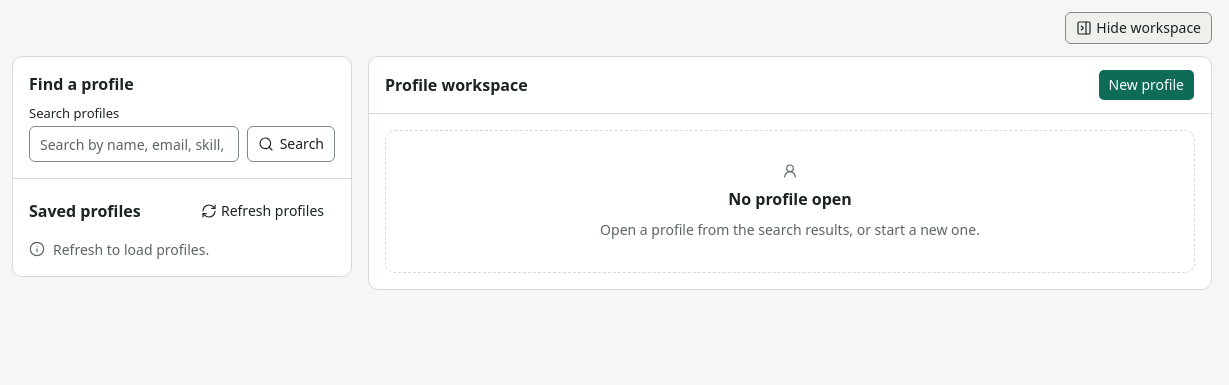
Test: profile list › loads page one on refresh and appends the next page
The width and height of the screenshot is (1229, 385).
Click the button with test id "profileRefreshButton". click: (262, 211)
box: x1=190 y1=195 x2=335 y2=227
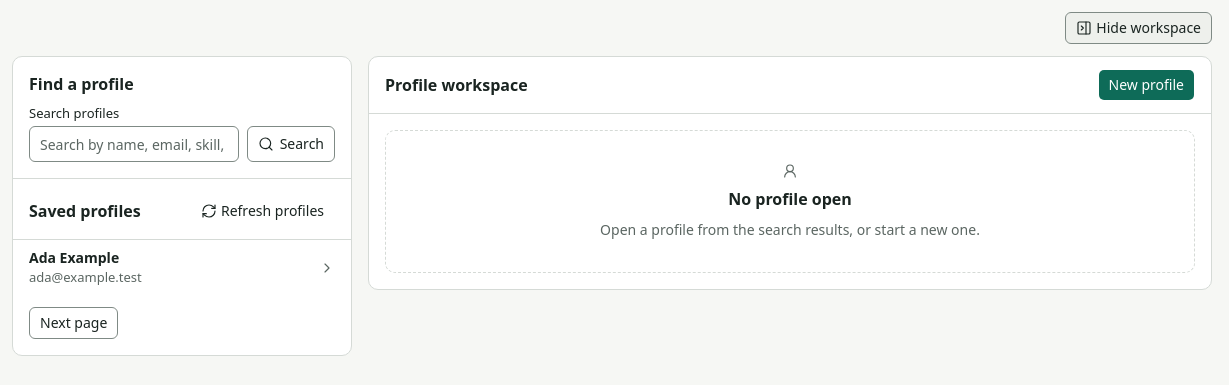
Check: the text "Ada Example" is shown, box x1=29 y1=248 x2=119 y2=267
Click the button with test id "nextProfilePageButton". click: (74, 323)
box: x1=29 y1=307 x2=118 y2=339
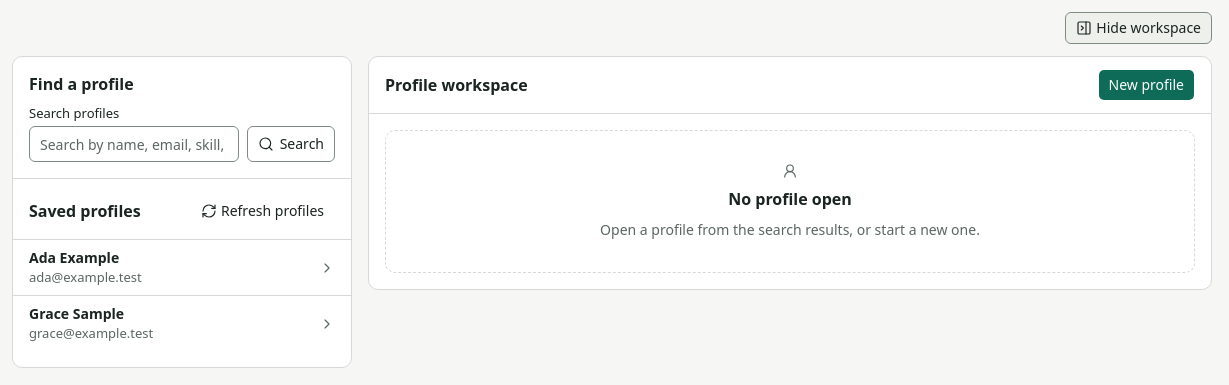
Check: the text "Ada Example" is shown, box x1=29 y1=248 x2=119 y2=267
Check: the text "Grace Sample" is shown, box x1=29 y1=304 x2=124 y2=323
